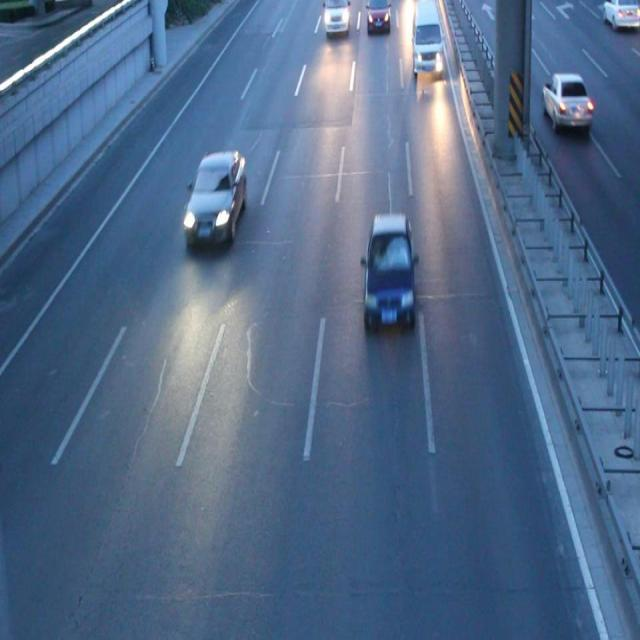car: (361, 213, 419, 327), (182, 150, 246, 246), (365, 1, 390, 33)
truck: (412, 1, 442, 75), (322, 1, 350, 33)
